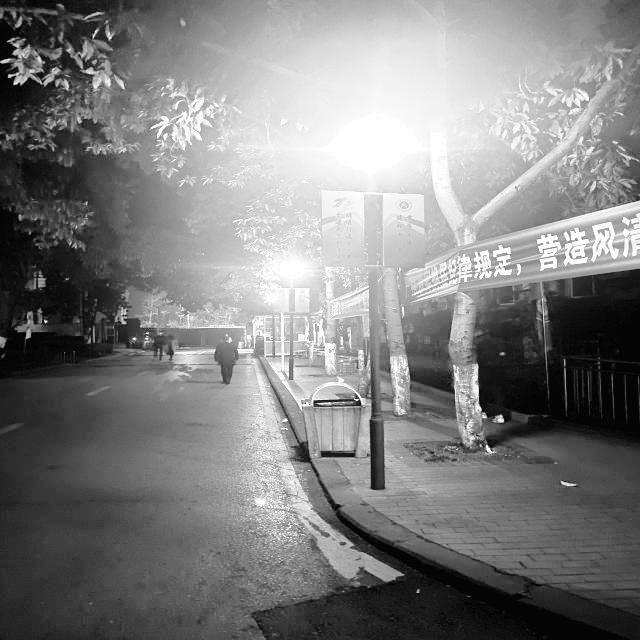Light: (339, 108, 399, 494)
Tree: (426, 38, 618, 456)
